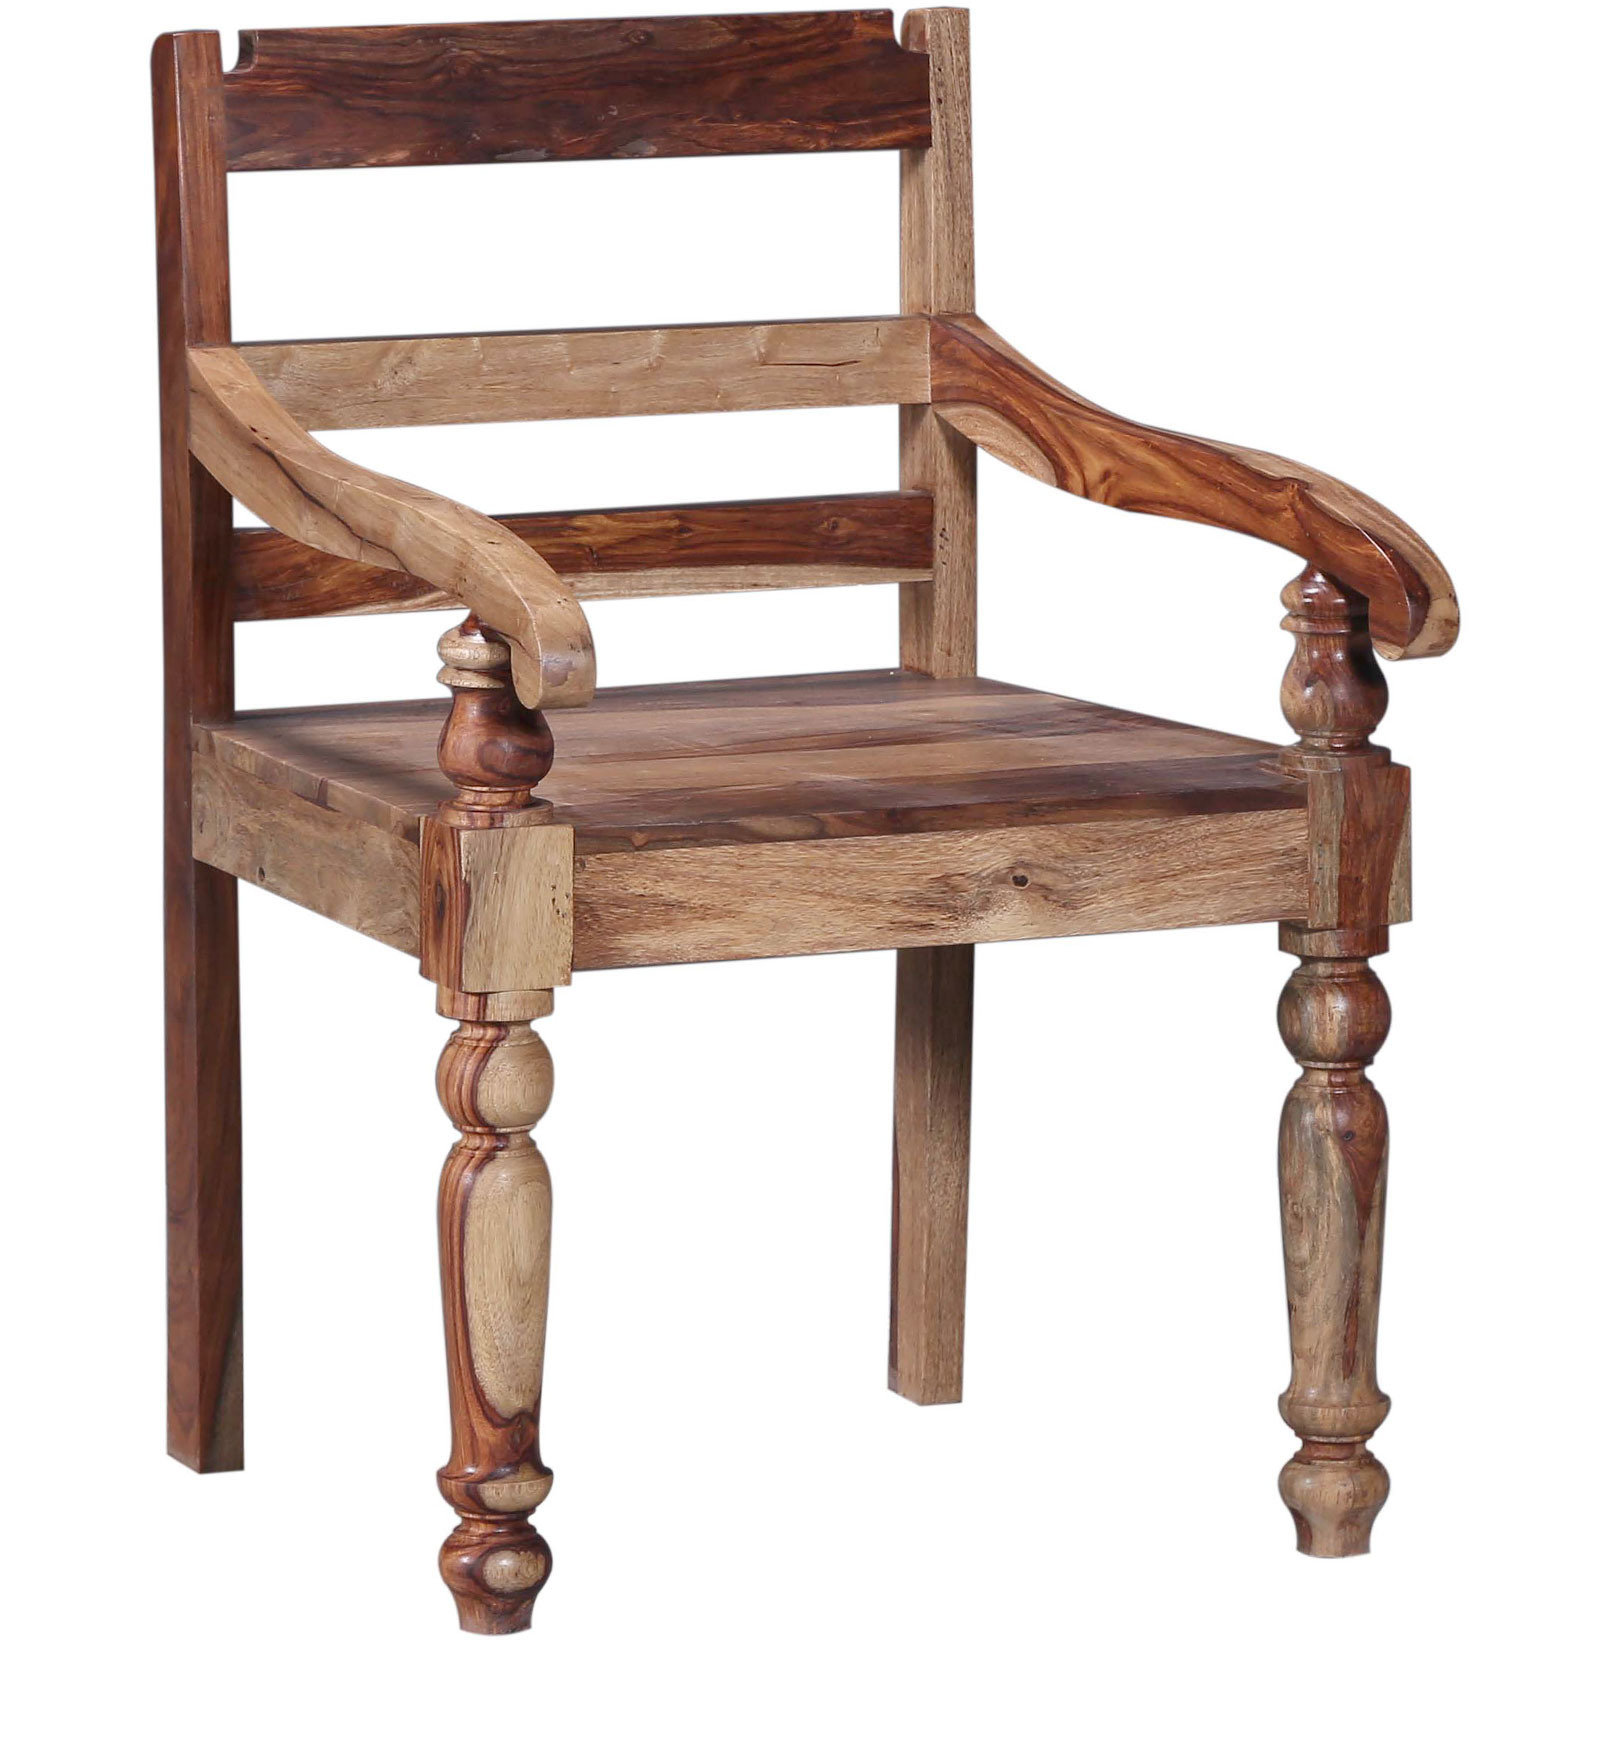Maud Arm Chair in Natural Sheesham Finish by Amberville: (133, 21, 1434, 1634)
